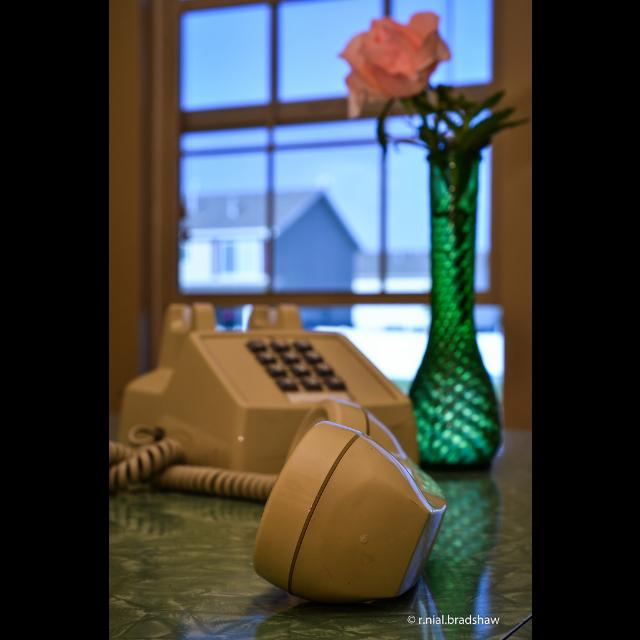Flower: (335, 13, 455, 103)
